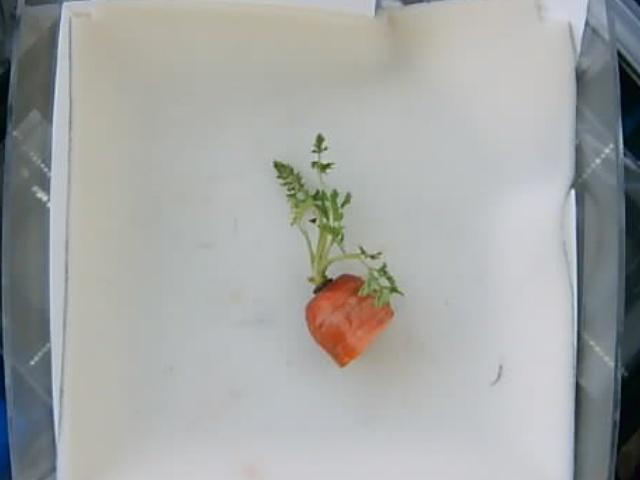Carrot: (272, 131, 406, 367)
